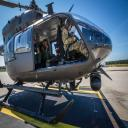helicopter: (3, 2, 115, 124)
